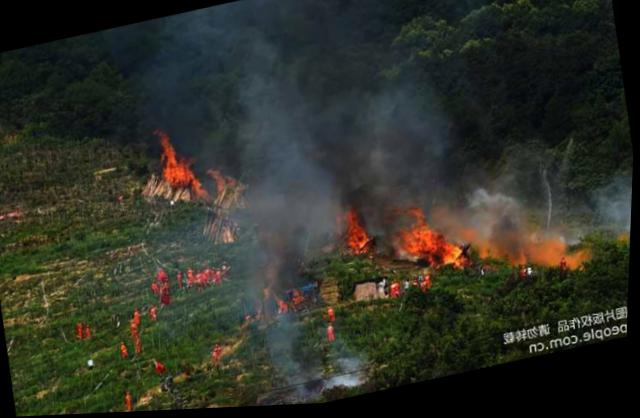fire: (149, 124, 216, 204), (399, 209, 474, 278), (336, 211, 381, 264)
